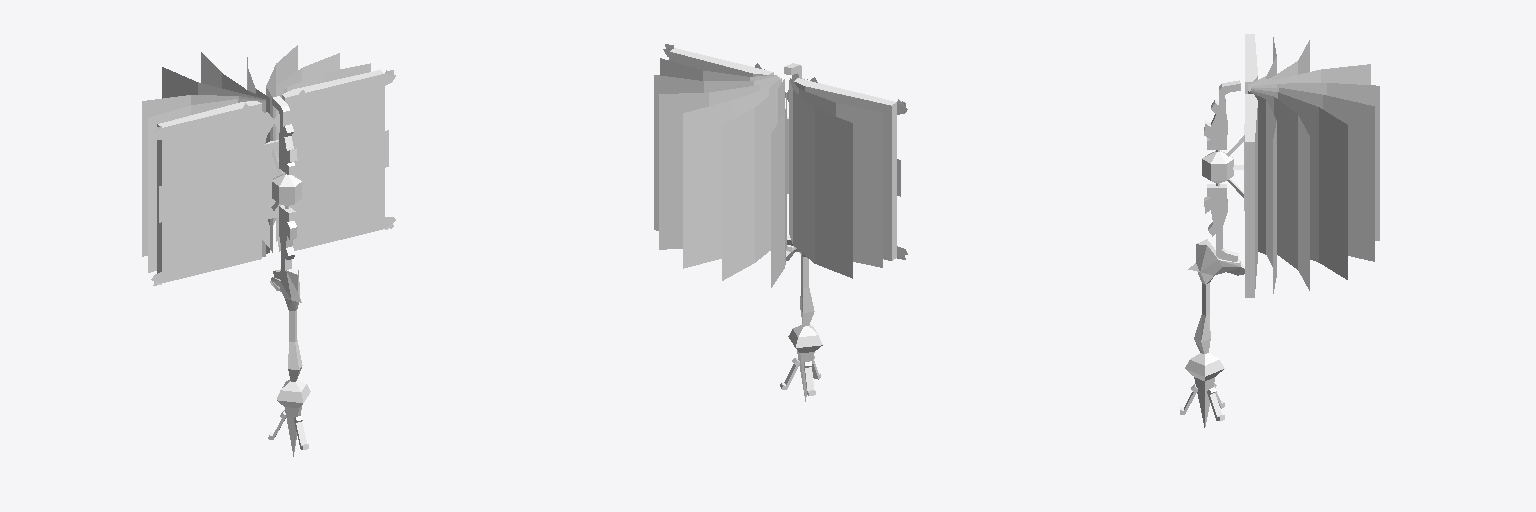
File: shadowwarlock08.obj
3 renders of one model, left to right at view 1: azimuth 30°, elevation 25°; view 2: azimuth 150°, elevation 25°; view 3: azimuth 270°, elevation 25°, orthographic.
Parts seen in each view (by area): view 1: w2dbk08; view 2: w2dbk08; view 3: w2dbk08.
Boxes of the visible parts, x1=… form: w2dbk08: x1=142, y1=45, x2=395, y2=456; w2dbk08: x1=654, y1=44, x2=907, y2=401; w2dbk08: x1=1180, y1=34, x2=1379, y2=427.
Bounding box in the file's own units: 0.85 × 1.15 × 0.6028.